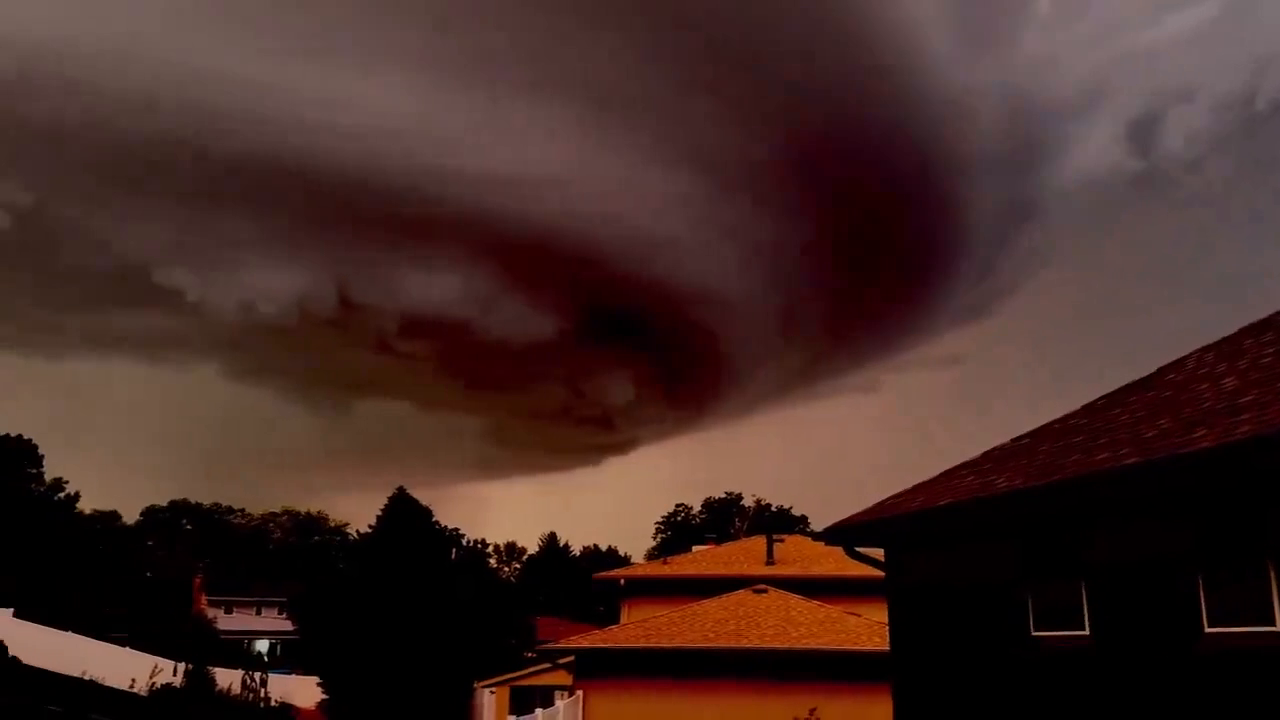FFD: (804, 200, 1280, 528)
RFD: (0, 359, 484, 545)
mesocyclone: (0, 0, 997, 487)
striations: (0, 0, 984, 438)
wall cloud: (0, 181, 682, 475)
